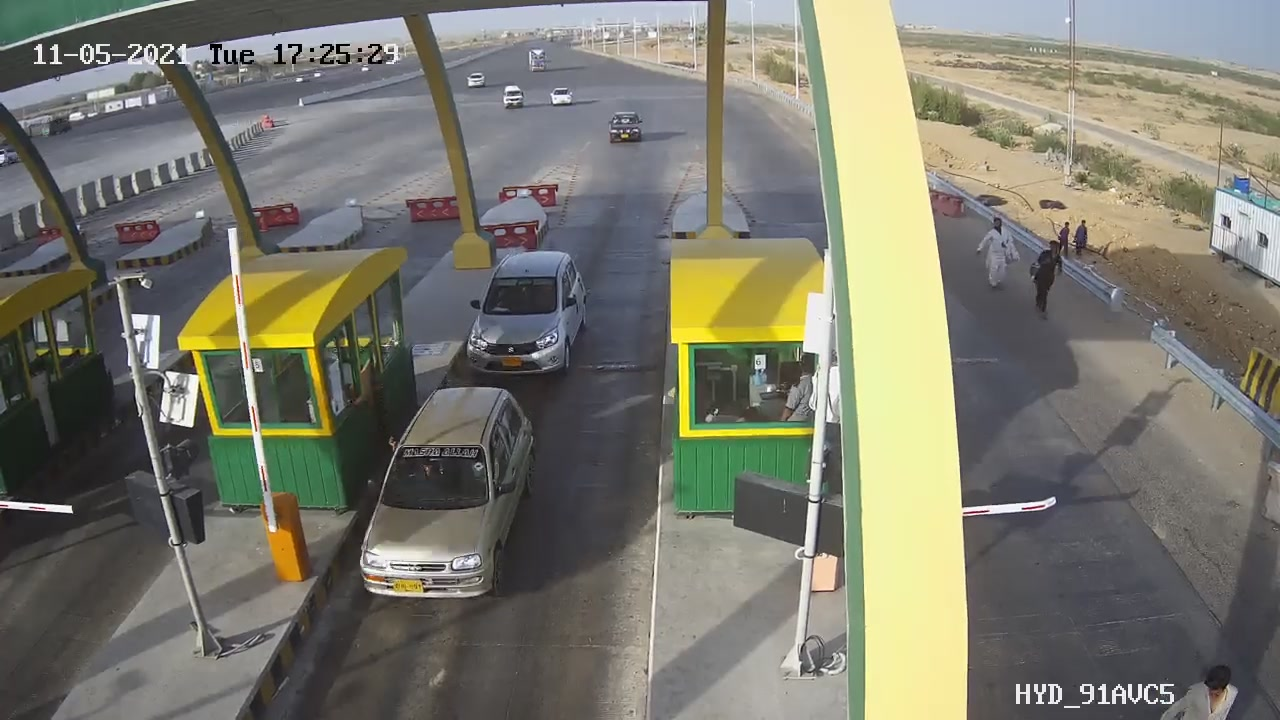F1: (342, 372, 553, 617), (451, 234, 608, 394)
